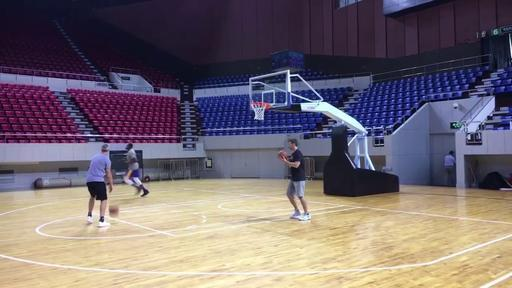ball: (109, 204, 119, 216), (278, 151, 288, 158)
human: (282, 138, 311, 222), (86, 144, 113, 228), (125, 143, 150, 197), (442, 150, 456, 186)
rim: (251, 102, 270, 120)
